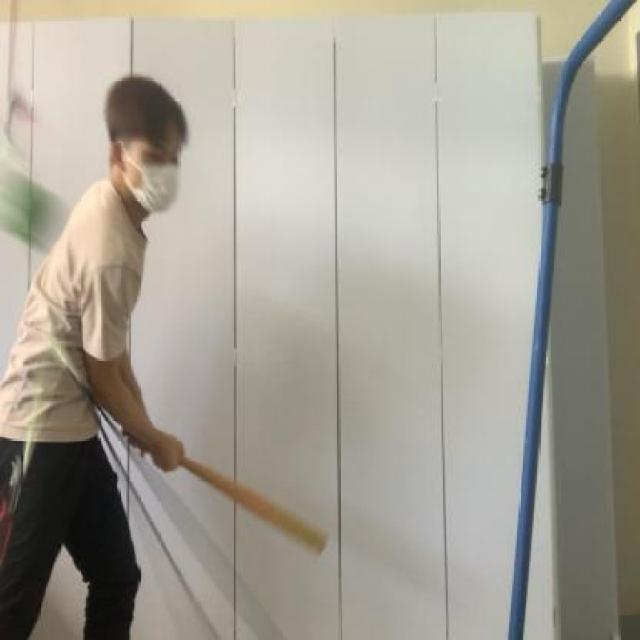baseball: (0, 153, 91, 284)
